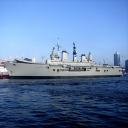Portanaves: (2, 36, 128, 82)
